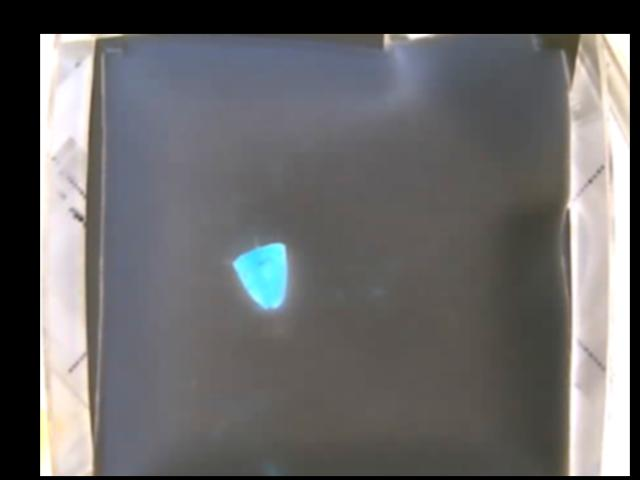Carrot: (234, 242, 288, 307)
